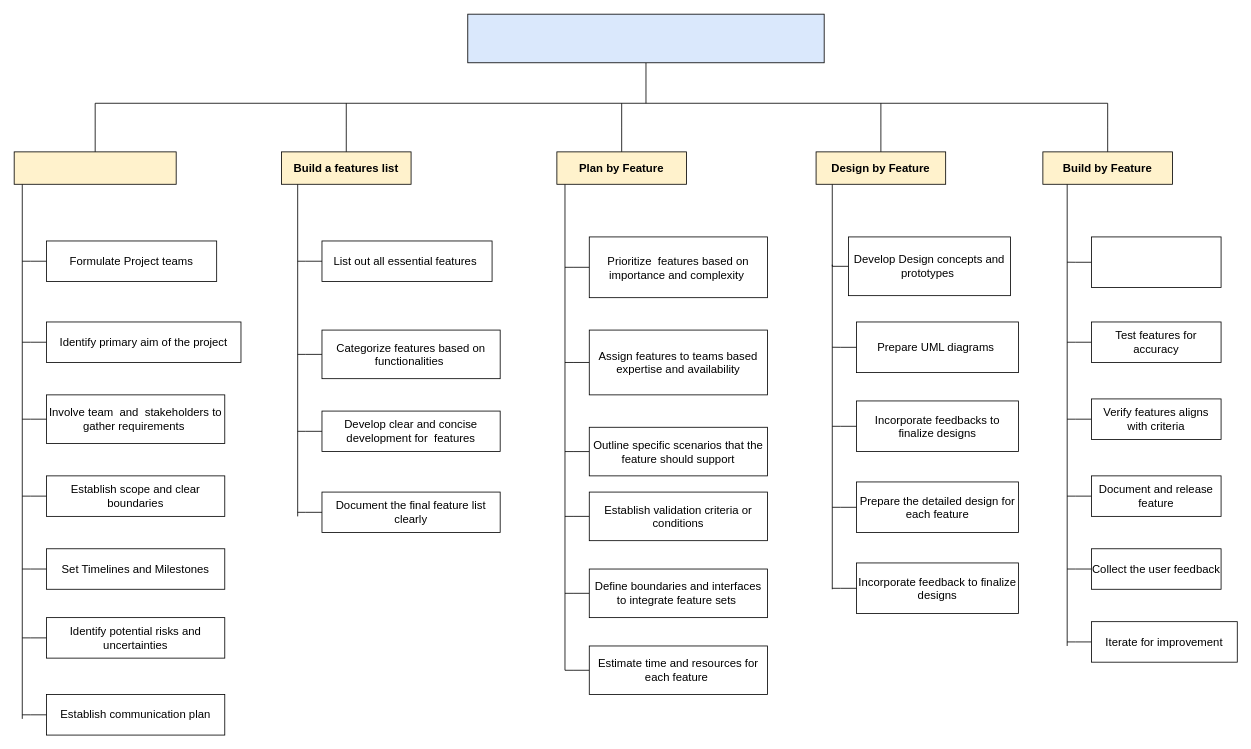
This 1251x749 diagram has some shape labels left out. Here are the shapes that lost their labels. From the top down, the centre of each, then its label:
pixel 645 38: McGregor Institute of Technology of Botanical Training
pixel 94 167: Develop an overall model
pixel 1156 262: Implement feature functionality
